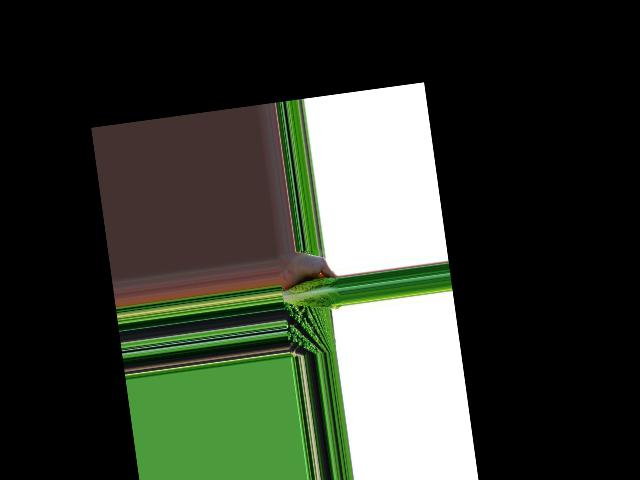lettuce: (279, 276, 340, 314)
